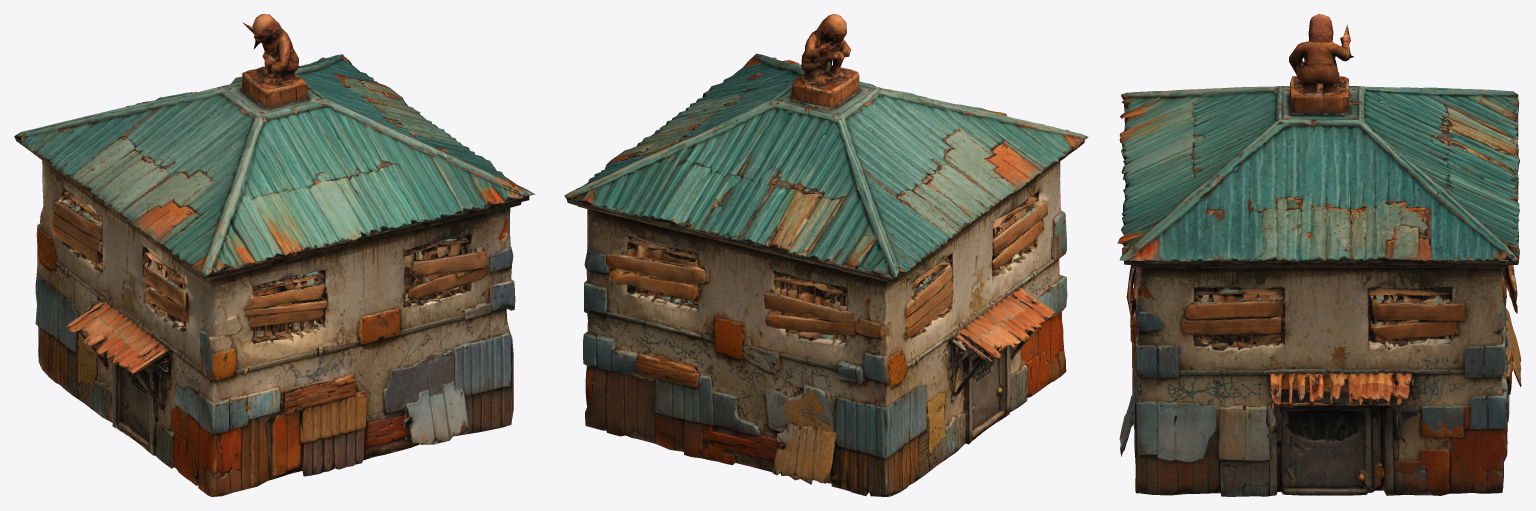
Rendered from Settle_TealHall.fbx.
The picture shows the model from 3 angles, left to right: view 1: azimuth 30°, elevation 25°; view 2: azimuth 150°, elevation 25°; view 3: azimuth 270°, elevation 25°; orthographic projection. The views are drawn at different scales.
Visible parts, largest first — view 1: texture_mapping; view 2: texture_mapping; view 3: texture_mapping.
Part boxes in pixels (box(x1,y1,x2,y2)): texture_mapping: box(14, 14, 535, 496); texture_mapping: box(564, 14, 1088, 496); texture_mapping: box(1117, 14, 1521, 496).
Bounding box in the file's own units: 0.9999 × 0.8966 × 0.9795.
Materials: 1 (1 with a texture image).
